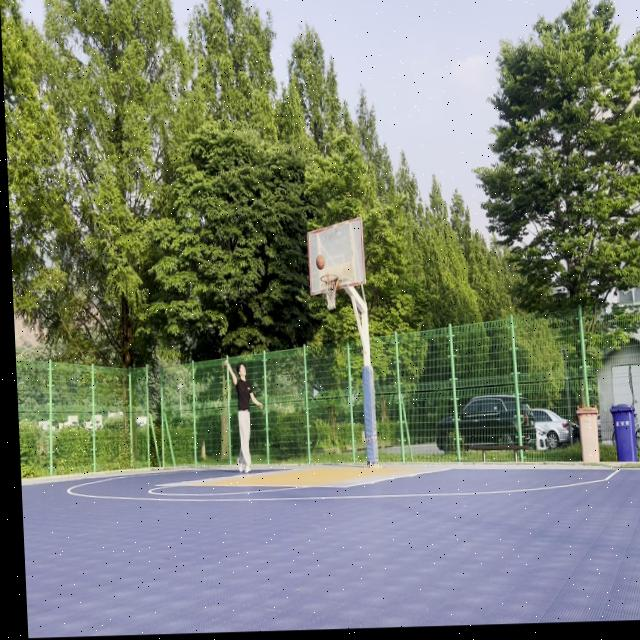basketball: (315, 254, 326, 270)
hoop: (320, 274, 340, 312)
